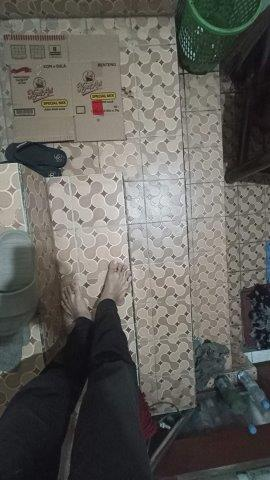kardus: (4, 35, 123, 140)
